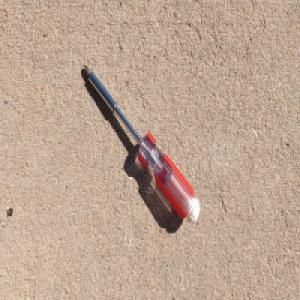Screwdriver: (82, 62, 201, 225)
